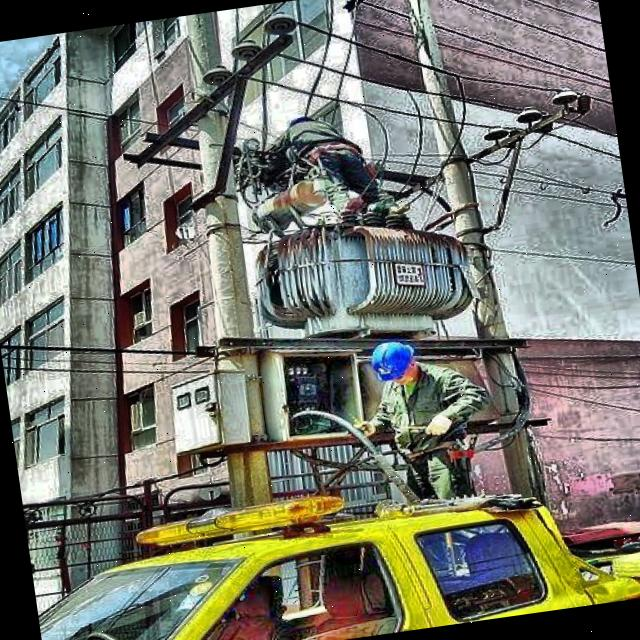helmet: (363, 333, 425, 392)
